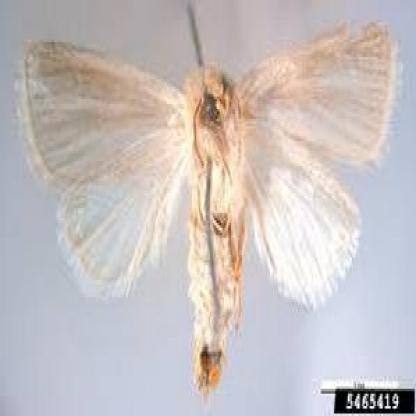stem-borer: (16, 32, 403, 372)
